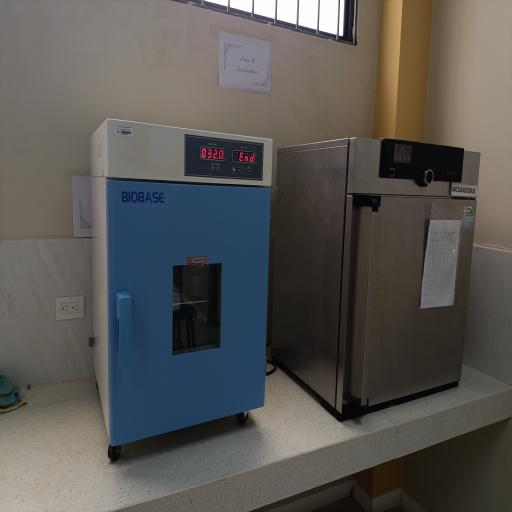Horno_Secado_Biobase: (82, 102, 277, 464)
Incubadora: (281, 132, 484, 431)
